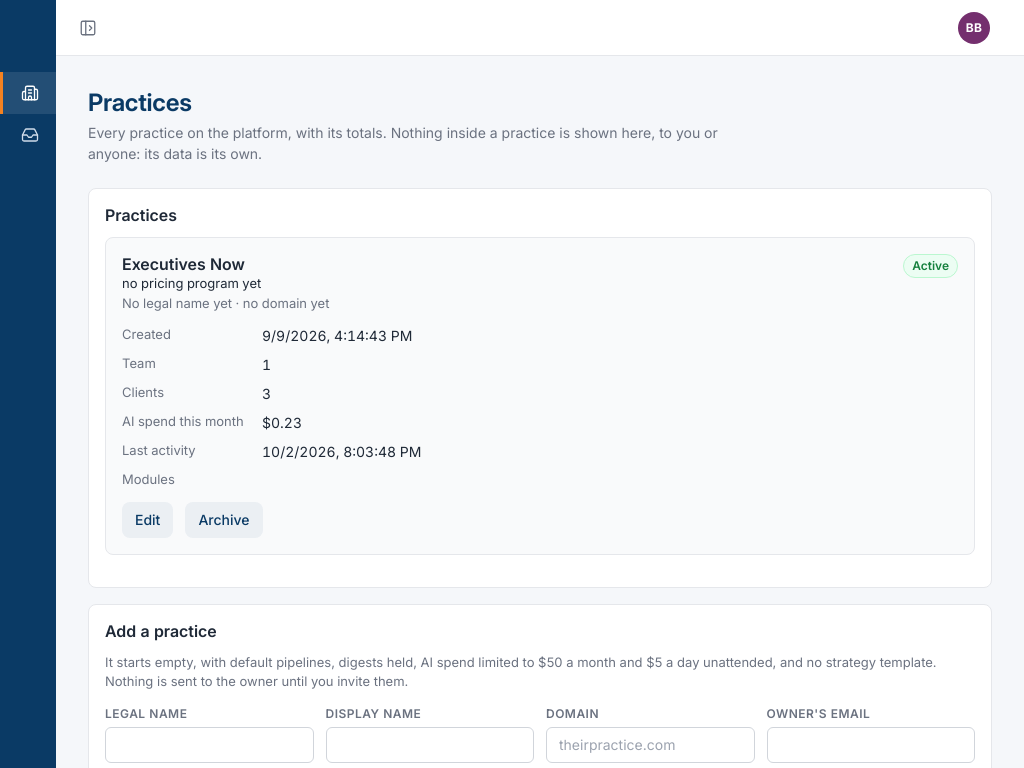
Scenario: the area switch › the app in the Practices area shows only Practices, as the platform owner
Note: Who is signed in is in the top bar's menu now (UI 3).
What coordinates should you click on to do the following:
click the button with aria-label "Your account"
I would click on:
 (974, 28)
Its box is [956,10,992,46].
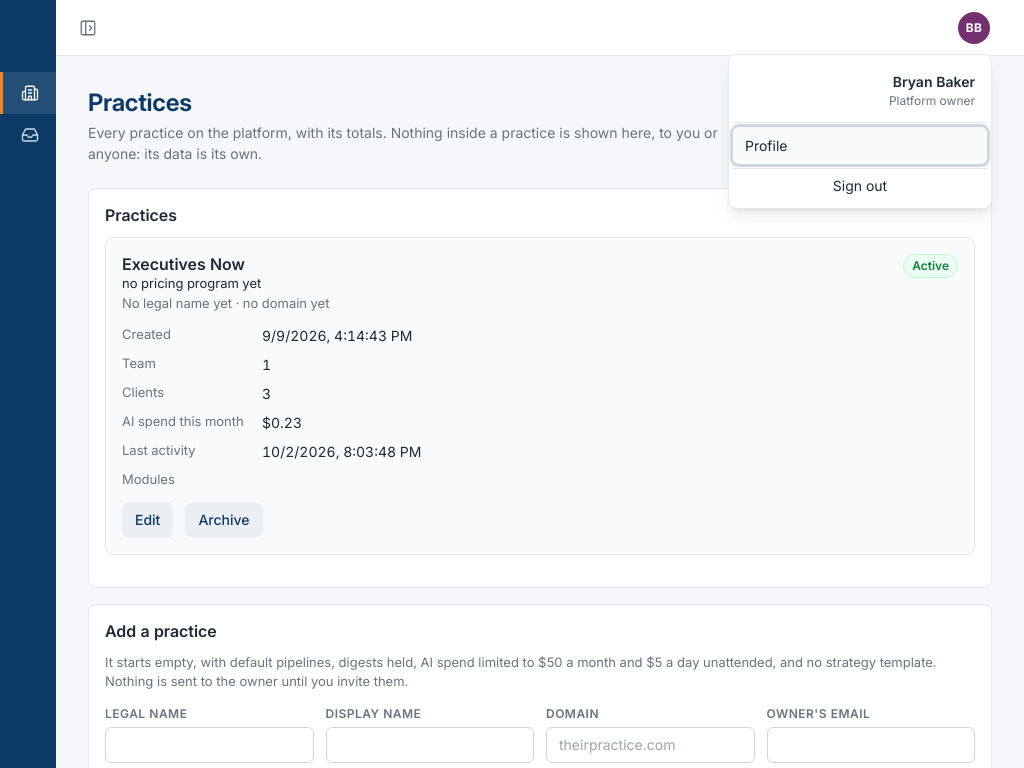
Expected: the links read "Practices", "Feedback", in this order, [0,72,56,114]; [20,126,38,144]
Expected: the text "Platform owner" is shown, [889,92,975,108]
